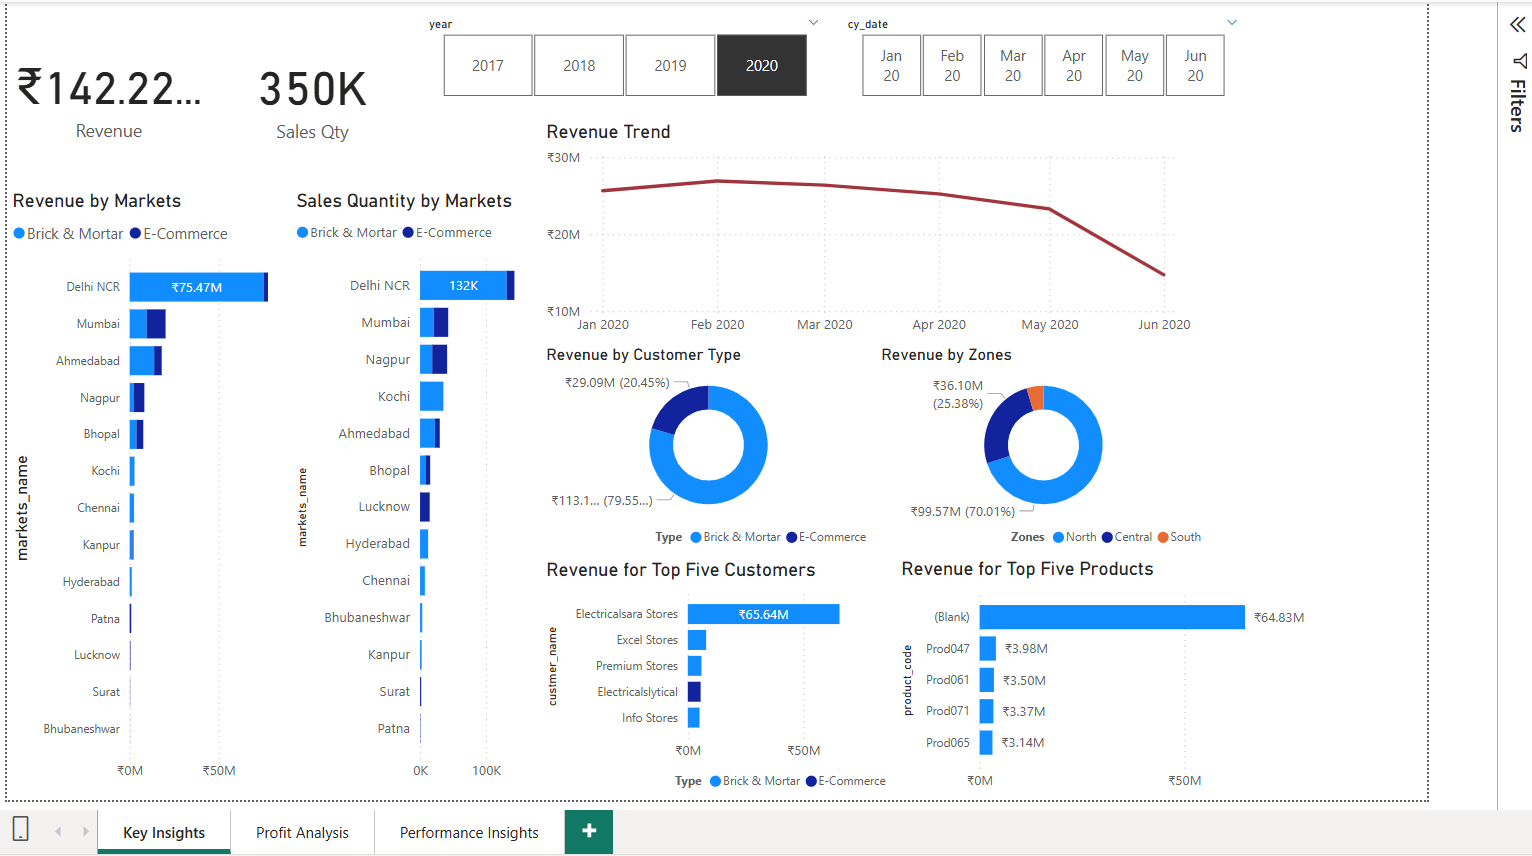

What the dashboard file says about the page in this screenshot:
{"tool":"powerbi","page":{"name":"Key Insights","canvas":[1280,720],"ordinal":0},"visuals":[{"type":"card","fields":{"Values":["BaseMeasures.Revenue"]},"box":[0,0,183.8,169.2],"z":0},{"type":"card","fields":{"Values":["BaseMeasures.Sales Qty"]},"box":[183.8,0,183.8,169.2],"z":1000},{"type":"barChart","title":"Revenue by Markets","fields":{"Y":["BaseMeasures.Revenue"],"Category":["sales markets.markets_name"],"Series":["sales customers.customer_type"]},"box":[0,169.6,260.2,542.2],"z":2000},{"type":"barChart","title":"Sales Quantity by Markets","fields":{"Y":["BaseMeasures.Sales Qty"],"Category":["sales markets.markets_name"],"Series":["sales customers.customer_type"]},"box":[256,169.6,224.8,542.2],"z":3000},{"type":"slicer","fields":{"Values":["sales date.year"]},"box":[367.7,7.8,377.4,83.6],"z":4000},{"type":"slicer","fields":{"Values":["sales date.cy_date"]},"box":[744.7,7.3,377.1,83.8],"z":5000},{"type":"barChart","title":"Revenue for Top Five Customers","fields":{"Y":["BaseMeasures.Revenue"],"Category":["sales customers.custmer_name"],"Series":["sales customers.customer_type"]},"box":[480.8,501.6,320.5,218.5],"z":6000},{"type":"barChart","title":"Revenue for Top Five Products","fields":{"Y":["BaseMeasures.Revenue"],"Category":["sales products.product_code"]},"box":[801.3,500.6,390.2,219.6],"z":7000},{"type":"lineChart","title":"Revenue Trend","fields":{"Y":["BaseMeasures.Revenue"],"Category":["sales date.cy_date.Variation.Date Hierarchy.Year","sales date.cy_date.Variation.Date Hierarchy.Quarter","sales date.cy_date.Variation.Date Hierarchy.Month","sales date.cy_date.Variation.Date Hierarchy.Day"]},"box":[480.8,107.2,591.1,201.9],"z":8000},{"type":"donutChart","title":"Revenue by Customer Type","fields":{"Y":["BaseMeasures.Revenue"],"Category":["sales customers.customer_type"]},"box":[480.8,309.1,302.8,191.5],"z":9000},{"type":"donutChart","title":"Revenue by Zones","fields":{"Y":["BaseMeasures.Revenue"],"Category":["sales markets.zone"]},"box":[783.6,309.1,302.8,191.5],"z":9001}]}

Visuals, with their boxes on the page's 1280x720 design canvas (x1, y1, x2, y2). These are canvas units, not pixel positions in the 1532x856 screenshot, which may show the page scaled, cropped or inside an application window:
card - BaseMeasures.Revenue: {"left": 0, "top": 0, "right": 184, "bottom": 169}
card - BaseMeasures.Sales Qty: {"left": 184, "top": 0, "right": 368, "bottom": 169}
"Revenue by Markets" barChart: {"left": 0, "top": 170, "right": 260, "bottom": 712}
"Sales Quantity by Markets" barChart: {"left": 256, "top": 170, "right": 481, "bottom": 712}
slicer - sales date.year: {"left": 368, "top": 8, "right": 745, "bottom": 91}
slicer - sales date.cy_date: {"left": 745, "top": 7, "right": 1122, "bottom": 91}
"Revenue for Top Five Customers" barChart: {"left": 481, "top": 502, "right": 801, "bottom": 720}
"Revenue for Top Five Products" barChart: {"left": 801, "top": 501, "right": 1192, "bottom": 720}
"Revenue Trend" lineChart: {"left": 481, "top": 107, "right": 1072, "bottom": 309}
"Revenue by Customer Type" donutChart: {"left": 481, "top": 309, "right": 784, "bottom": 501}
"Revenue by Zones" donutChart: {"left": 784, "top": 309, "right": 1086, "bottom": 501}
